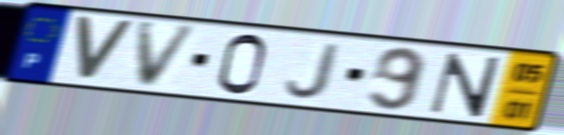0: (216, 31, 268, 97)
9: (366, 45, 429, 113)
J: (283, 40, 346, 101)
N: (425, 50, 505, 119)
V: (134, 20, 204, 90), (72, 13, 139, 85)
